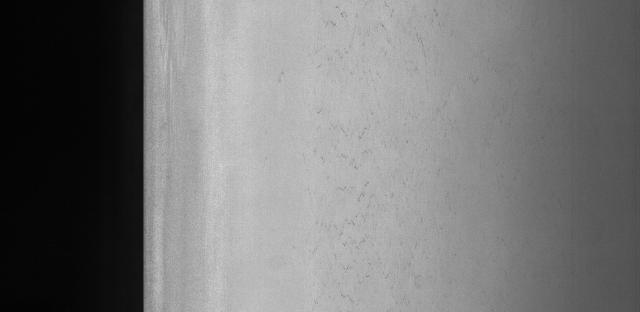silk_spot: (291, 0, 471, 299)
